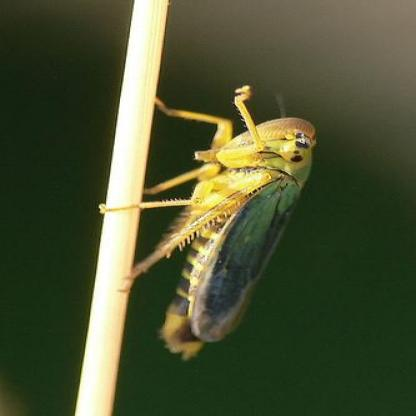Green-Leafhopper: (95, 80, 328, 367)
